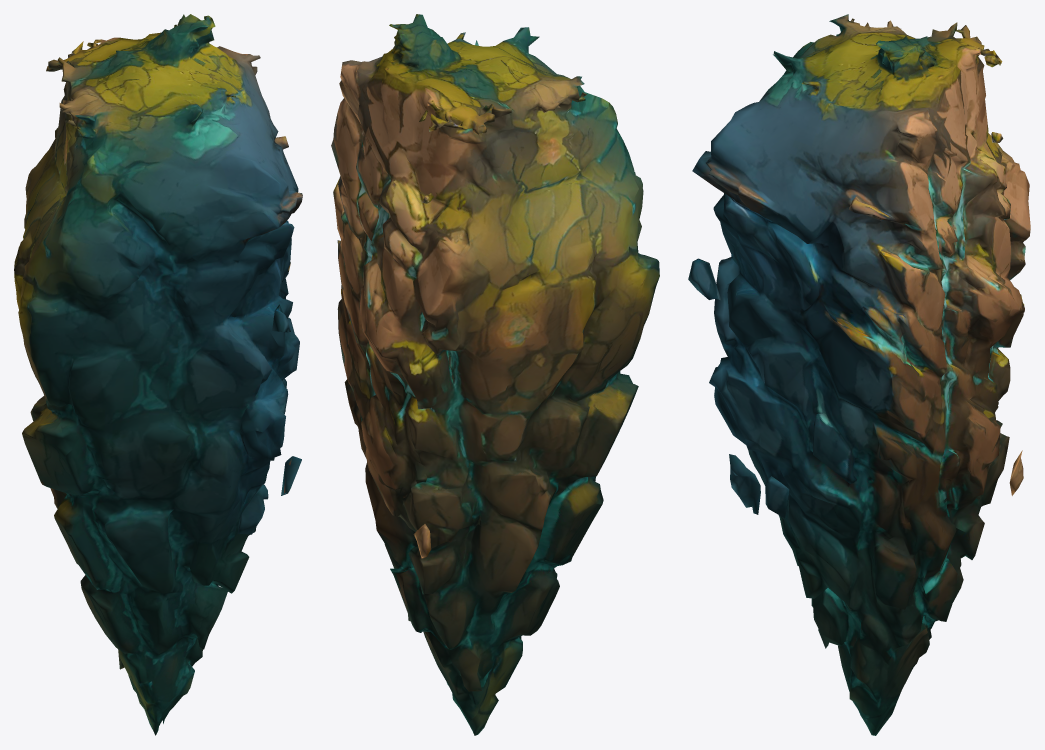
File: floating+rock+island+3d+model.fbx
3 views of the same model, side by side, from view 1: azimuth 30°, elevation 25°; view 2: azimuth 150°, elevation 25°; view 3: azimuth 270°, elevation 25° (orthographic). The views are drawn at different scales.
Parts seen in each view (by area): view 1: tripo_node_21adb23f; view 2: tripo_node_21adb23f; view 3: tripo_node_21adb23f.
Part boxes in pixels (x1,y1,x2,y2): tripo_node_21adb23f: (14,14,302,735); tripo_node_21adb23f: (331,14,659,735); tripo_node_21adb23f: (688,14,1030,735).
Size of the model in its own units: 0.423 by 1 by 0.431.
Materials: 1 (1 with a texture image).
